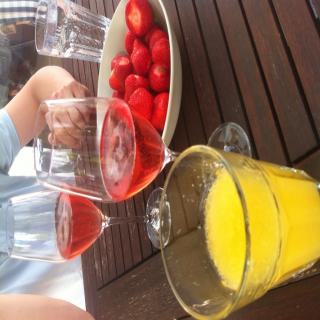Strawberry: (110, 23, 172, 129), (126, 1, 152, 32)
